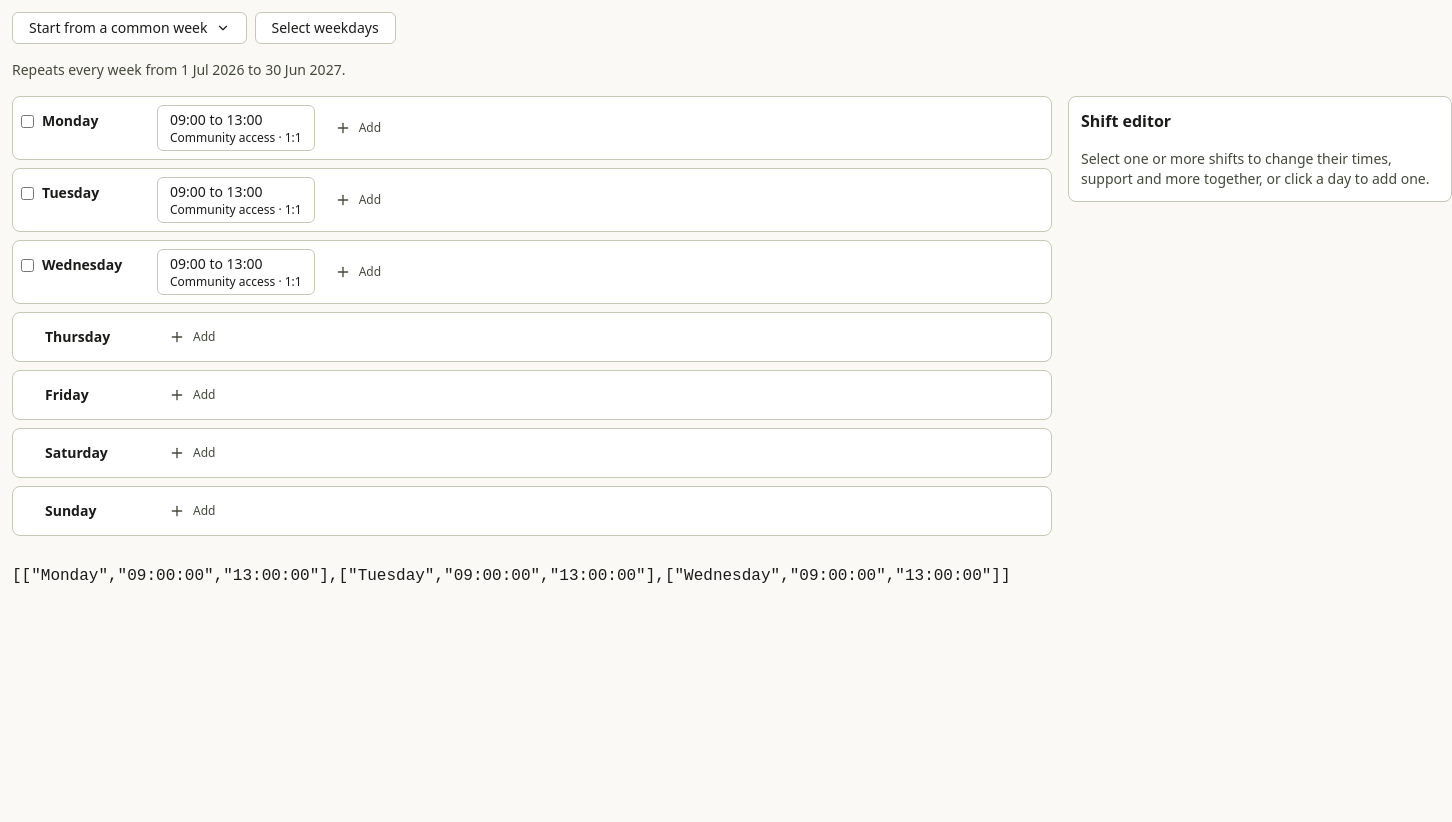
it: WeekStep with the editor beside the grid › Done hands focus back to the first selected shift and leaves the editor empty
Click the button with aria-label "Tuesday 09:00" at (236, 200), box [157,177,315,223]
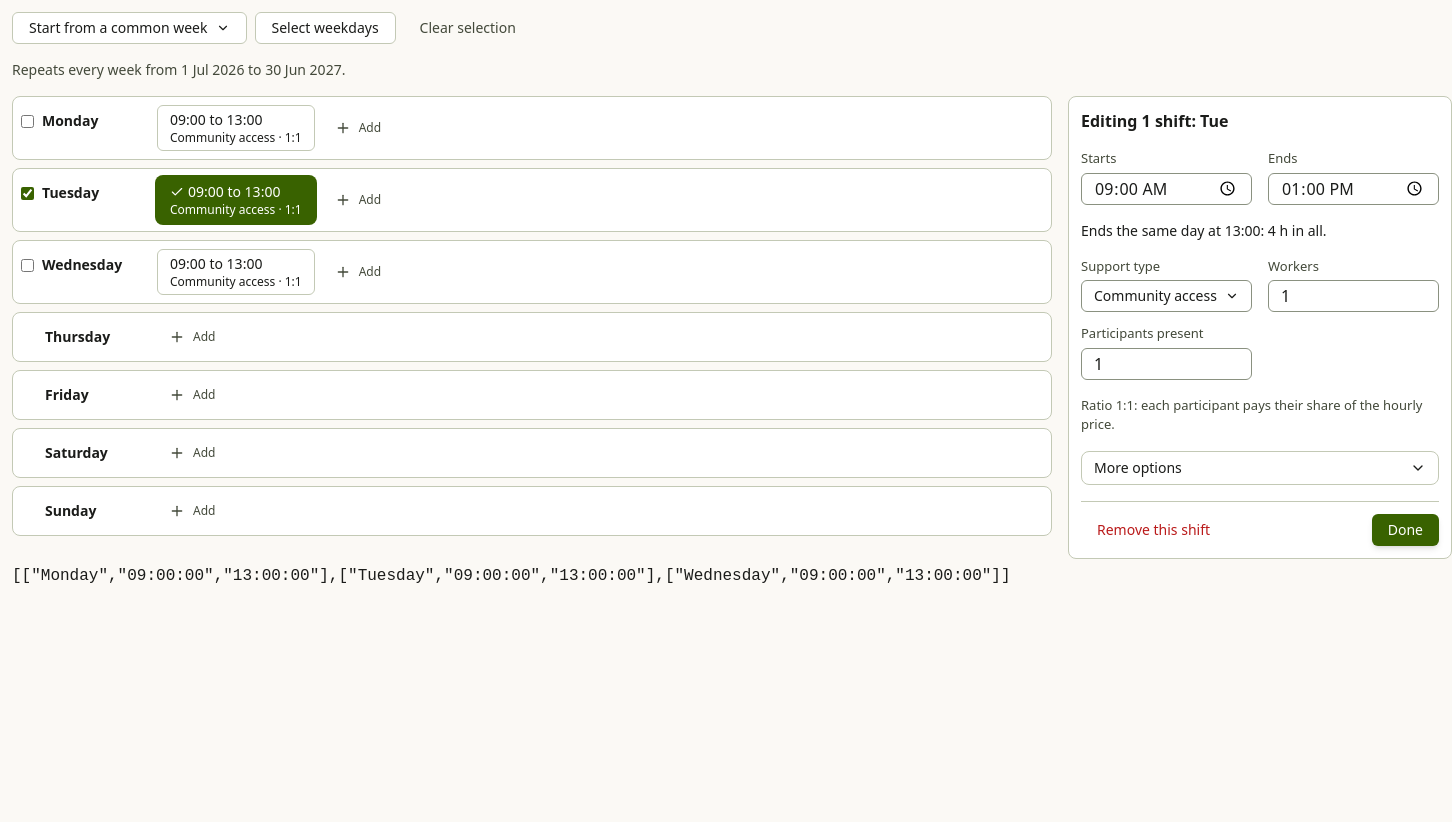
Click the button with aria-label "Wednesday 09:00" at (236, 272), box [157,249,315,295]
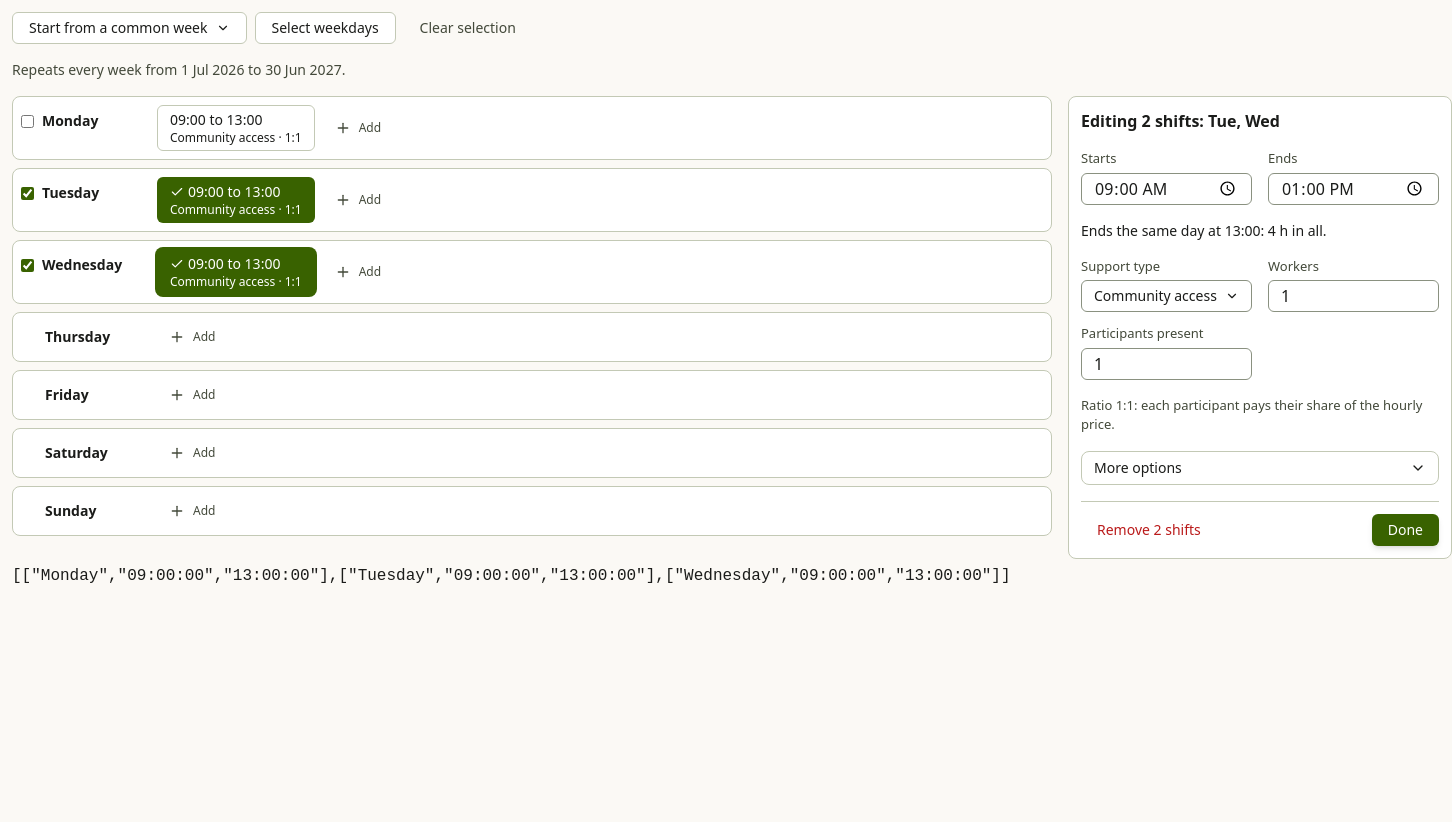
Click the button "Done" at (1405, 530), box [1372,514,1439,546]
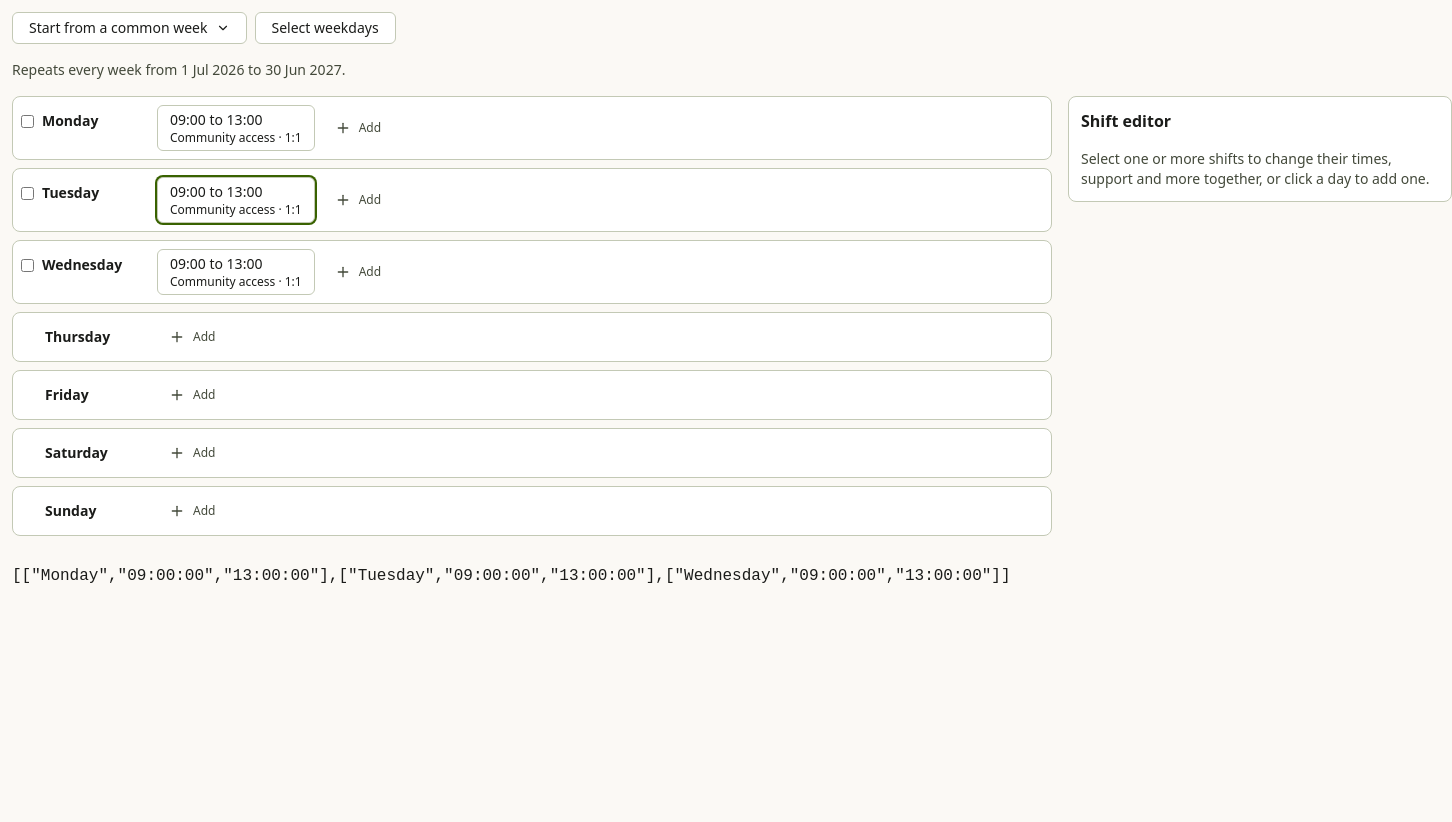
Expected: the text "Select one or more shifts" is shown, [1081,149,1430,188]
